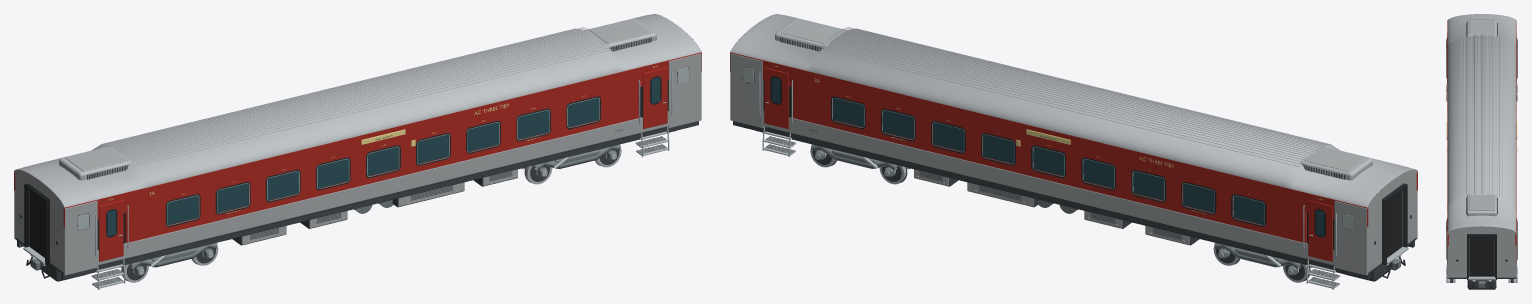
The model's file is LHB_3A_prototype.fbx.
3 views of the same model, side by side, from view 1: azimuth 30°, elevation 25°; view 2: azimuth 150°, elevation 25°; view 3: azimuth 270°, elevation 25° (orthographic). The views are drawn at different scales.
Parts seen in each view (by area): view 1: Arched_LHB_roof_4250mm, Red_upper_fascia, Grey_lower_body, Red_sill_band, Continuous_solebar, Toilet_end_side.001, Toilet_end_side, Door_leaf, Door_leaf.001, Floor_sandwich, Window_band_pillar, Window_band_pillar.009 (+36 smaller); view 2: Arched_LHB_roof_4250mm, Red_upper_fascia.001, Grey_lower_body.001, Red_sill_band.001, Continuous_solebar.001, Toilet_end_side.003, Toilet_end_side.002, Door_leaf.002, Door_leaf.003, Floor_sandwich, Window_band_pillar.010, Window_band_pillar.019 (+36 smaller); view 3: Arched_LHB_roof_4250mm, Vestibule_dark_recess.001, Endwall_outer.002, Endwall_outer.003, End_roof_cap.001, AC_service_cover, AC_service_cover.001, Roof_longitudinal_fluting.008, Roof_AC_housing.001, Red_upper_fascia, Red_upper_fascia.001, Bio_toilet_tank.001 (+21 smaller).
Boxes of the visible parts, bbox=[...] form: Arched_LHB_roof_4250mm: bbox=[16, 14, 701, 207]; Red_upper_fascia: bbox=[63, 52, 701, 227]; Grey_lower_body: bbox=[64, 111, 668, 272]; Red_sill_band: bbox=[125, 111, 638, 243]; Continuous_solebar: bbox=[61, 121, 698, 279]; Toilet_end_side.001: bbox=[668, 53, 701, 128]; Toilet_end_side: bbox=[64, 200, 97, 275]; Door_leaf: bbox=[99, 200, 123, 261]; Door_leaf.001: bbox=[643, 67, 667, 128]; Floor_sandwich: bbox=[15, 126, 666, 274]; Window_band_pillar: bbox=[125, 203, 166, 235]; Window_band_pillar.009: bbox=[600, 87, 638, 120]; Arched_LHB_roof_4250mm: bbox=[730, 14, 1415, 207]; Red_upper_fascia.001: bbox=[730, 52, 1368, 227]; Grey_lower_body.001: bbox=[763, 111, 1367, 272]; Red_sill_band.001: bbox=[793, 111, 1306, 243]; Continuous_solebar.001: bbox=[733, 121, 1370, 279]; Toilet_end_side.003: bbox=[730, 53, 763, 128]; Toilet_end_side.002: bbox=[1334, 200, 1367, 275]; Door_leaf.002: bbox=[1308, 200, 1332, 261]; Door_leaf.003: bbox=[764, 67, 788, 128]; Floor_sandwich: bbox=[765, 126, 1416, 274]; Window_band_pillar.010: bbox=[1265, 203, 1306, 235]; Window_band_pillar.019: bbox=[793, 87, 831, 120]; Arched_LHB_roof_4250mm: bbox=[1447, 14, 1516, 231]; Vestibule_dark_recess.001: bbox=[1469, 237, 1494, 276]; Endwall_outer.002: bbox=[1448, 231, 1469, 277]; Endwall_outer.003: bbox=[1494, 231, 1515, 277]; End_roof_cap.001: bbox=[1447, 226, 1516, 233]; AC_service_cover: bbox=[1469, 20, 1494, 35]; AC_service_cover.001: bbox=[1469, 195, 1494, 210]; Roof_longitudinal_fluting.008: bbox=[1481, 34, 1482, 193]; Roof_AC_housing.001: bbox=[1467, 194, 1496, 216]; Red_upper_fascia: bbox=[1447, 20, 1448, 245]; Red_upper_fascia.001: bbox=[1515, 20, 1516, 245]; Bio_toilet_tank.001: bbox=[1467, 279, 1496, 289].
Size of the model in its own units: 337 by 2400 by 429.
